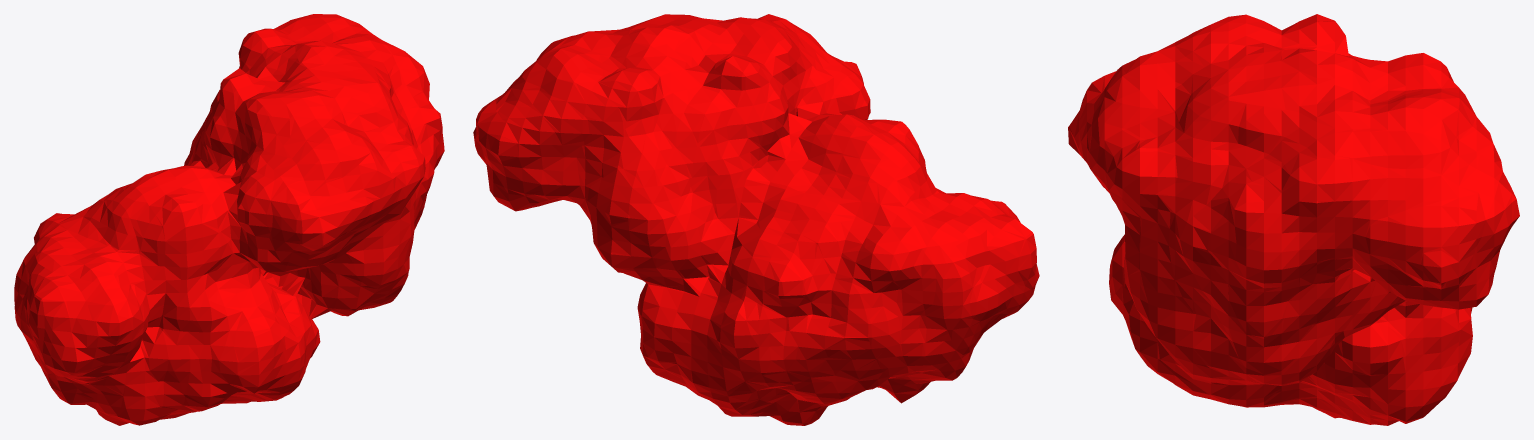
File: astC_coarse.dae
The picture shows the model from 3 angles, left to right: view 1: azimuth 30°, elevation 25°; view 2: azimuth 150°, elevation 25°; view 3: azimuth 270°, elevation 25°; orthographic projection. The views are drawn at different scales.
Parts seen in each view (by area): view 1: astC; view 2: astC; view 3: astC.
Part boxes in pixels (x1,y1,x2,y2): astC: (14,14,444,425); astC: (473,14,1039,425); astC: (1068,14,1519,425).
Size of the model in its own units: 125 by 89.48 by 81.76.
